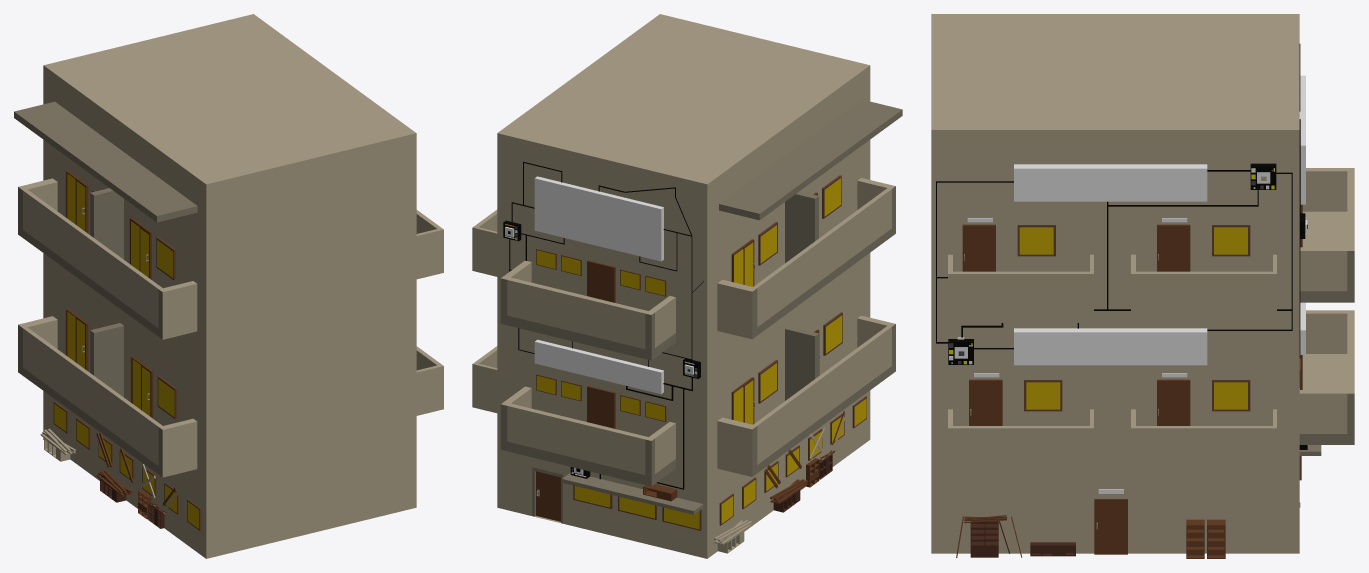
File: Building 3 A4.fbx
3 views of the same model, side by side, from view 1: azimuth 30°, elevation 25°; view 2: azimuth 150°, elevation 25°; view 3: azimuth 270°, elevation 25° (orthographic). The views are drawn at different scales.
Parts seen in each view (by area): view 1: Cube; view 2: Cube; view 3: Cube.
Boxes of the visible parts, left/top/right/bottom form: Cube: left=14, top=14, right=443, bottom=558; Cube: left=472, top=14, right=902, bottom=558; Cube: left=931, top=14, right=1354, bottom=558.
Size of the model in its own units: 37.43 by 46.86 by 42.44.
